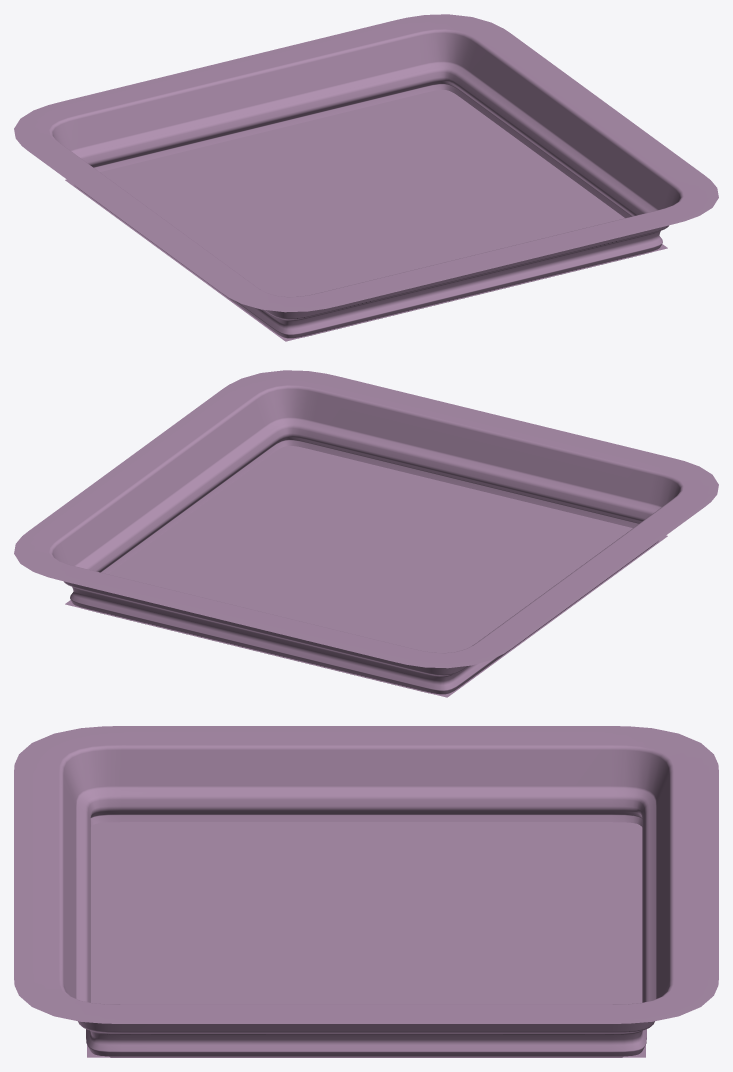
Rendered from whole 8x8 overlay.fbx.
3 renders of one model, top to bottom at view 1: azimuth 30°, elevation 25°; view 2: azimuth 150°, elevation 25°; view 3: azimuth 270°, elevation 25°, orthographic. The views are drawn at different scales.
Visible parts, largest first — view 1: pCube127; view 2: pCube127; view 3: pCube127.
Part boxes in pixels (left/top/right/bottom): pCube127: left=14, top=14, right=718, bottom=341; pCube127: left=14, top=370, right=718, bottom=697; pCube127: left=14, top=726, right=718, bottom=1057.
Size of the model in its own units: 1009 by 104 by 1009.
